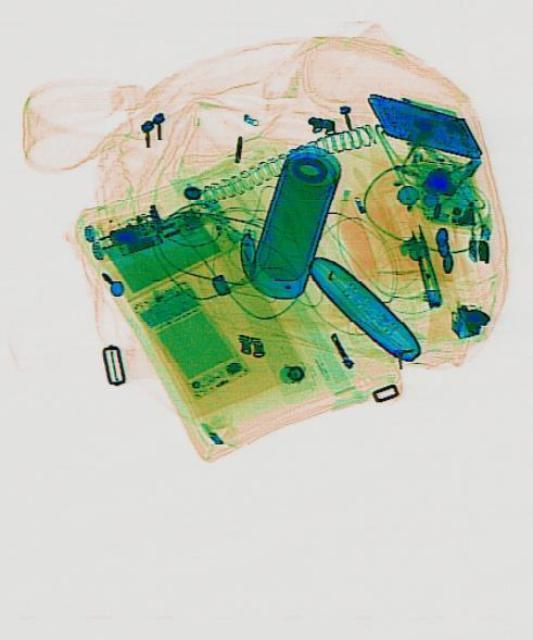Scissors: (405, 221, 442, 309)
